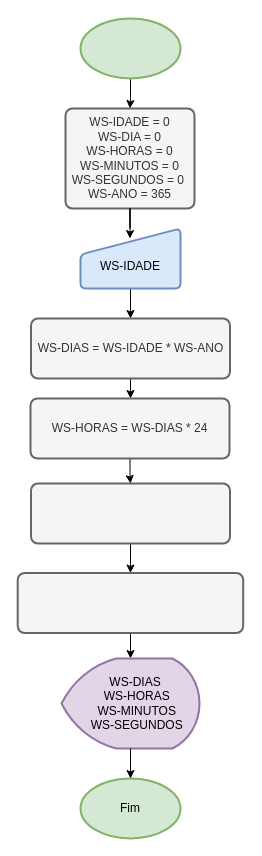
Some shapes in this 262 by 856 pixel diagram are drawn without their labels. The shapes that lost their labels are listed below. From the top down, each one's centre as x and y in pixels, then its label:
At point 130,48: "Inicio".
At point 130,513: "WS-MINUTOS = WS-HORAS * 60".
At point 130,603: "WS-SEGUNDOS = WS-MINUTOS * 60".
